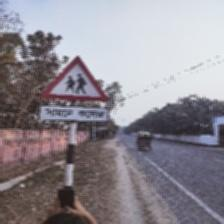College-in-front: (43, 64, 112, 126)
